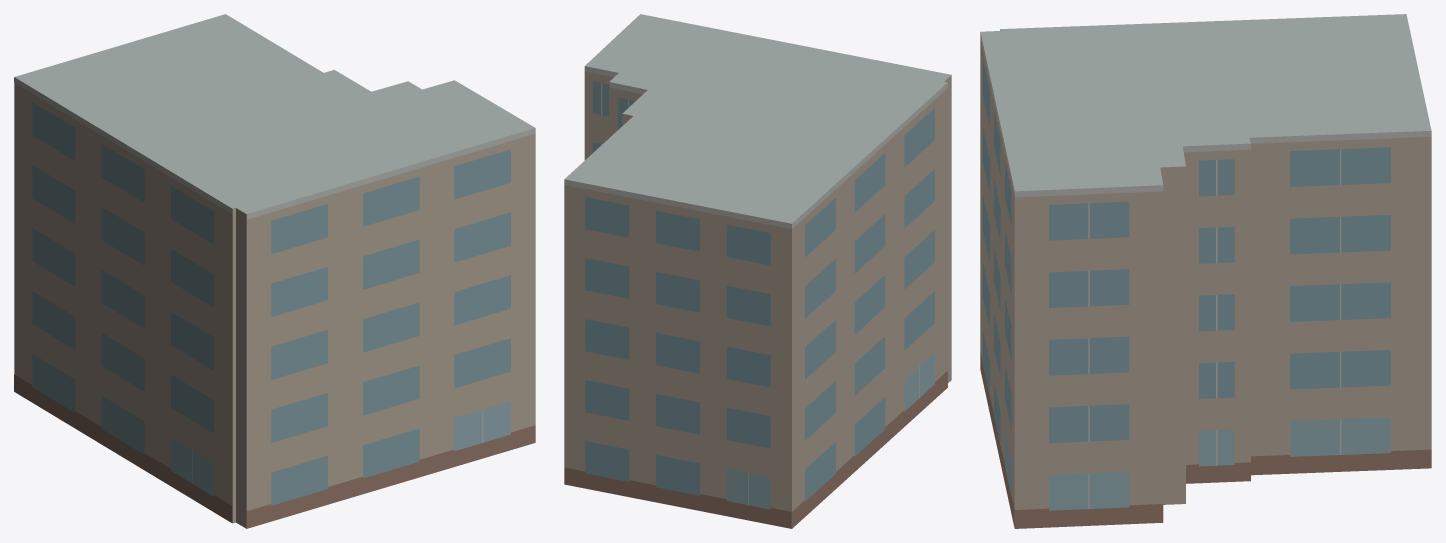
The model's file is survey-upis-32610607.glb.
The picture shows the model from 3 angles, left to right: view 1: azimuth 30°, elevation 25°; view 2: azimuth 150°, elevation 25°; view 3: azimuth 270°, elevation 25°; orthographic projection. The views are drawn at different scales.
Parts seen in each view (by area): view 1: survey-upis-32610607.tmp; view 2: survey-upis-32610607.tmp; view 3: survey-upis-32610607.tmp.
Part boxes in pixels (left/top/right/bottom): survey-upis-32610607.tmp: left=14, top=14, right=535, bottom=528; survey-upis-32610607.tmp: left=564, top=14, right=951, bottom=528; survey-upis-32610607.tmp: left=980, top=14, right=1431, bottom=528.
Bounding box in the file's own units: 15.34 × 13.6 × 16.49.
